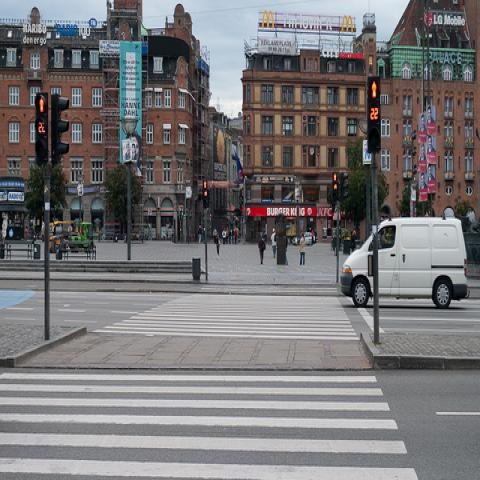car: (340, 214, 468, 308), (41, 218, 55, 244), (292, 232, 316, 246)
truck: (342, 220, 470, 311), (68, 222, 93, 241)
